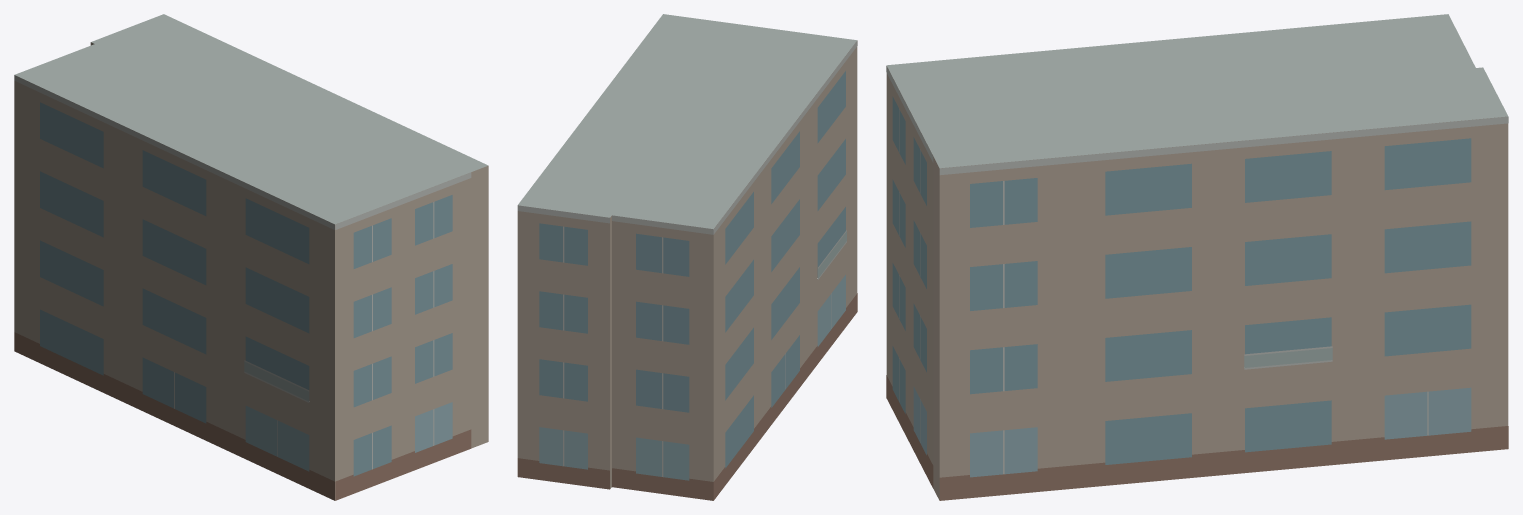
Rendered from survey-upis-32829039.glb.
3 renders of one model, left to right at view 1: azimuth 30°, elevation 25°; view 2: azimuth 150°, elevation 25°; view 3: azimuth 270°, elevation 25°, orthographic. The views are drawn at different scales.
Visible parts, largest first — view 1: survey-upis-32829039.tmp; view 2: survey-upis-32829039.tmp; view 3: survey-upis-32829039.tmp.
Part boxes in pixels (left/top/right/bottom): survey-upis-32829039.tmp: left=14, top=14, right=488, bottom=500; survey-upis-32829039.tmp: left=517, top=14, right=857, bottom=500; survey-upis-32829039.tmp: left=886, top=14, right=1508, bottom=500.
Bounding box in the file's own units: 11.65 × 11.7 × 19.84.
